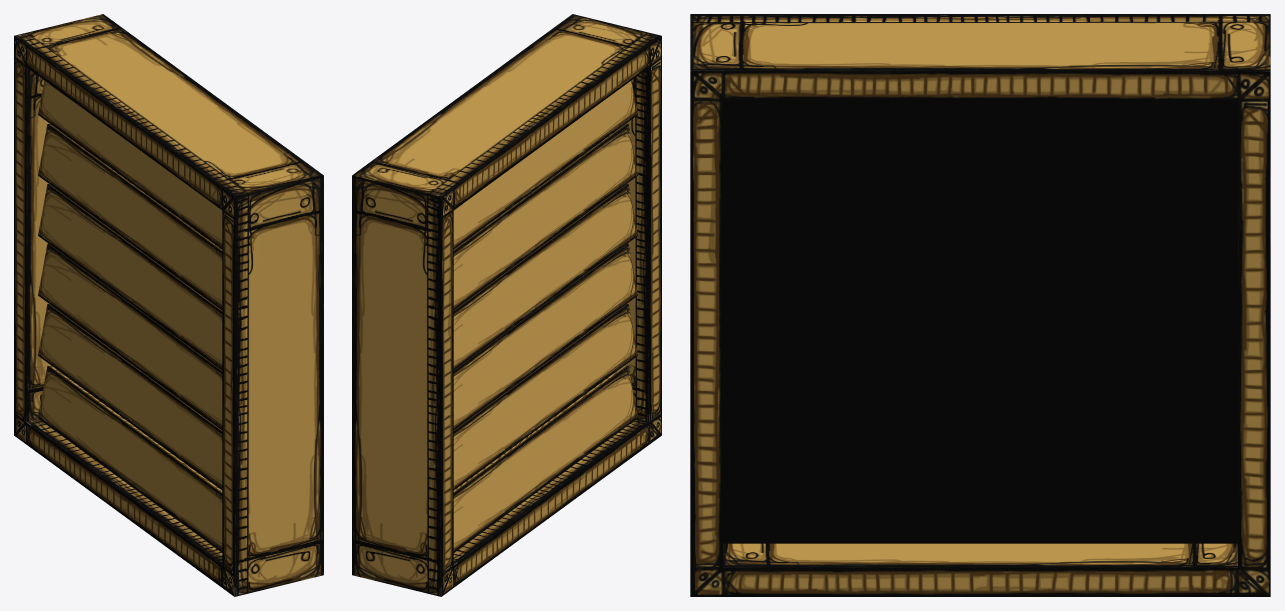
File: ventilation.fbx
3 renders of one model, left to right at view 1: azimuth 30°, elevation 25°; view 2: azimuth 150°, elevation 25°; view 3: azimuth 270°, elevation 25°, orthographic. The views are drawn at different scales.
Visible parts, largest first — view 1: Cube; view 2: Cube; view 3: Cube.001, Cube.
Part boxes in pixels (x1,y1,x2,y2): Cube: (14, 14, 323, 596); Cube: (352, 14, 661, 596); Cube.001: (723, 100, 1237, 543); Cube: (690, 14, 1270, 596).
Size of the model in its own units: 66.73 by 285 by 285.
